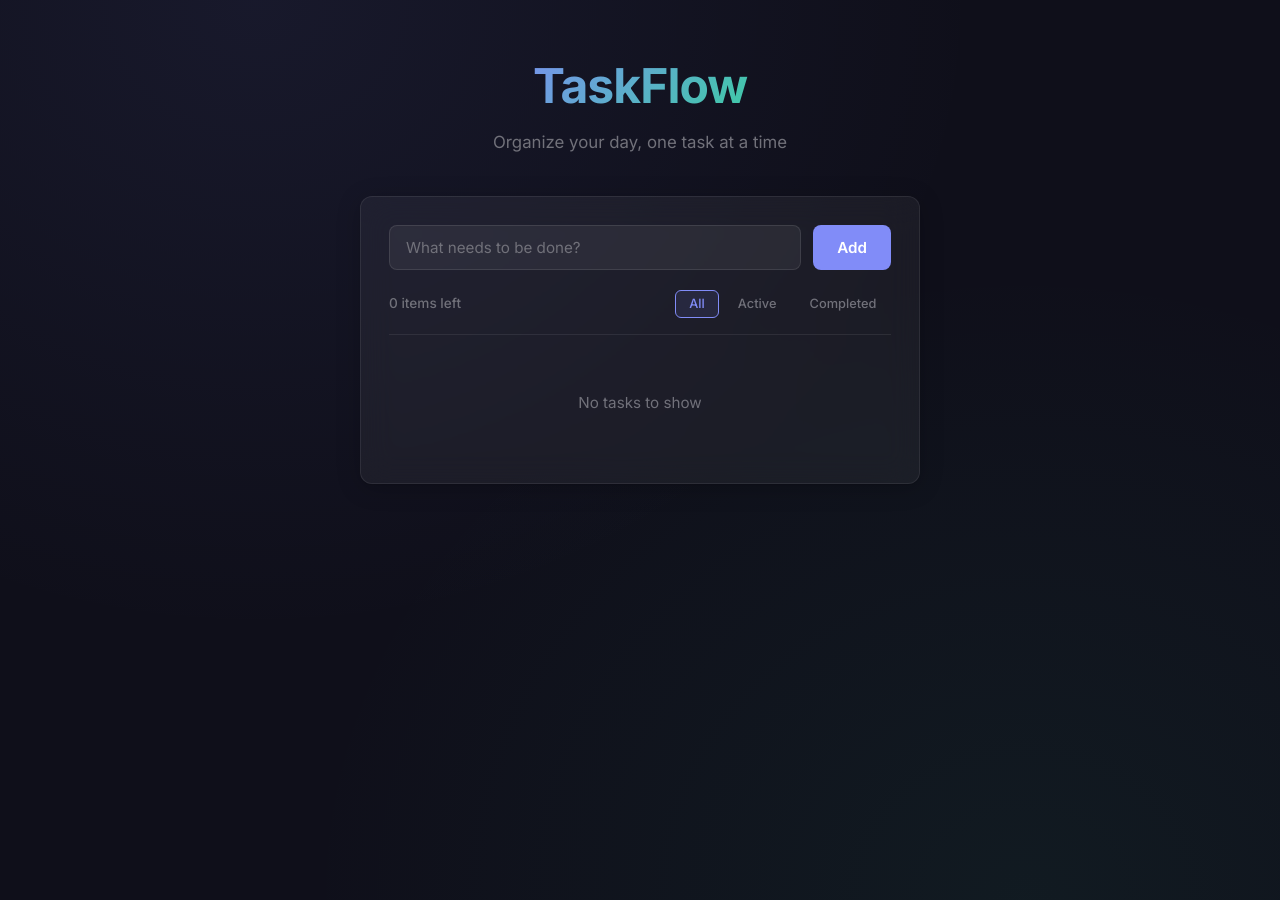
it: App › adds a new task when the form is submitted
The image size is (1280, 900).
In the field named "Task title": [595, 247] box [389, 225, 801, 270], type "New task"
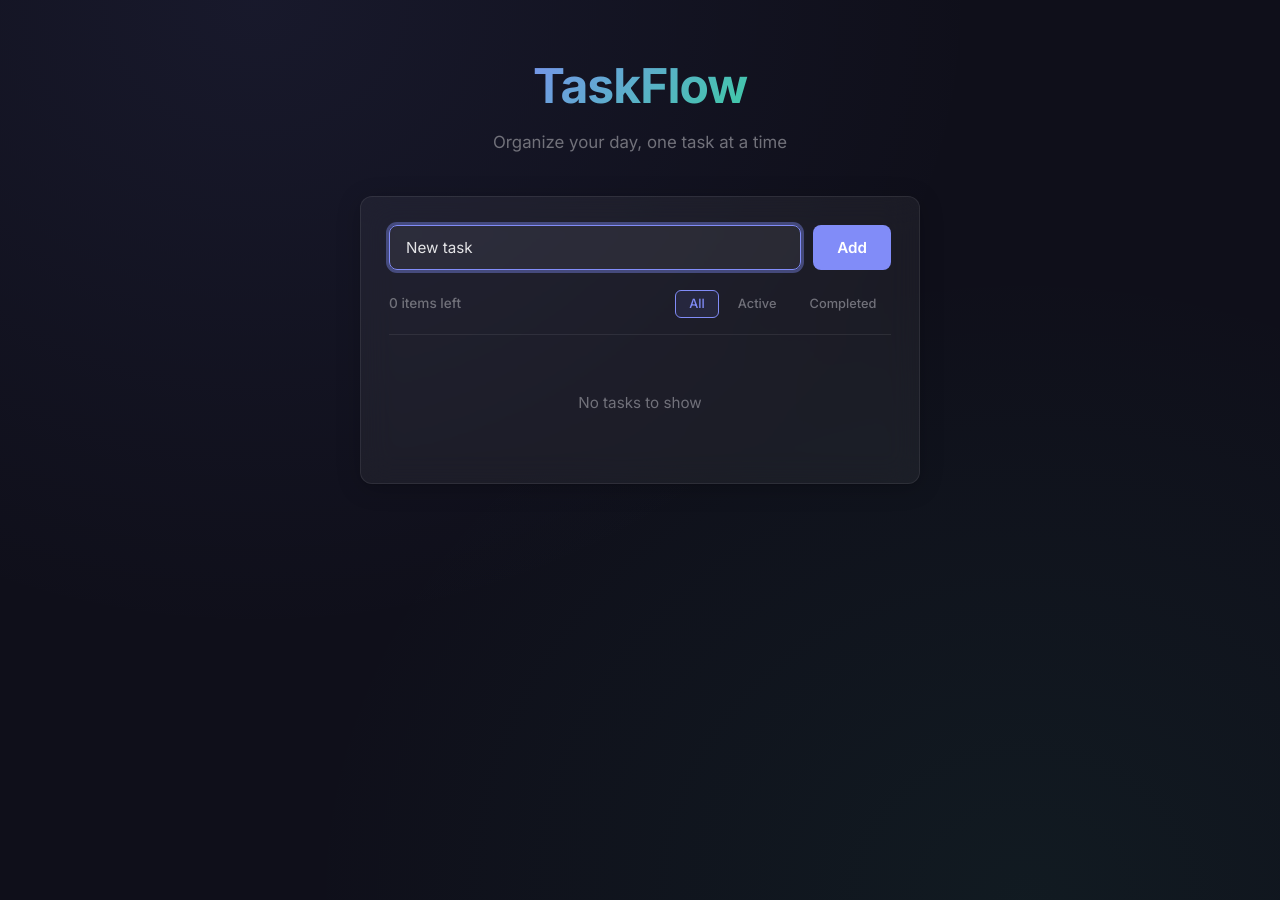
Click the button "Add": [852, 247] box [813, 225, 891, 270]
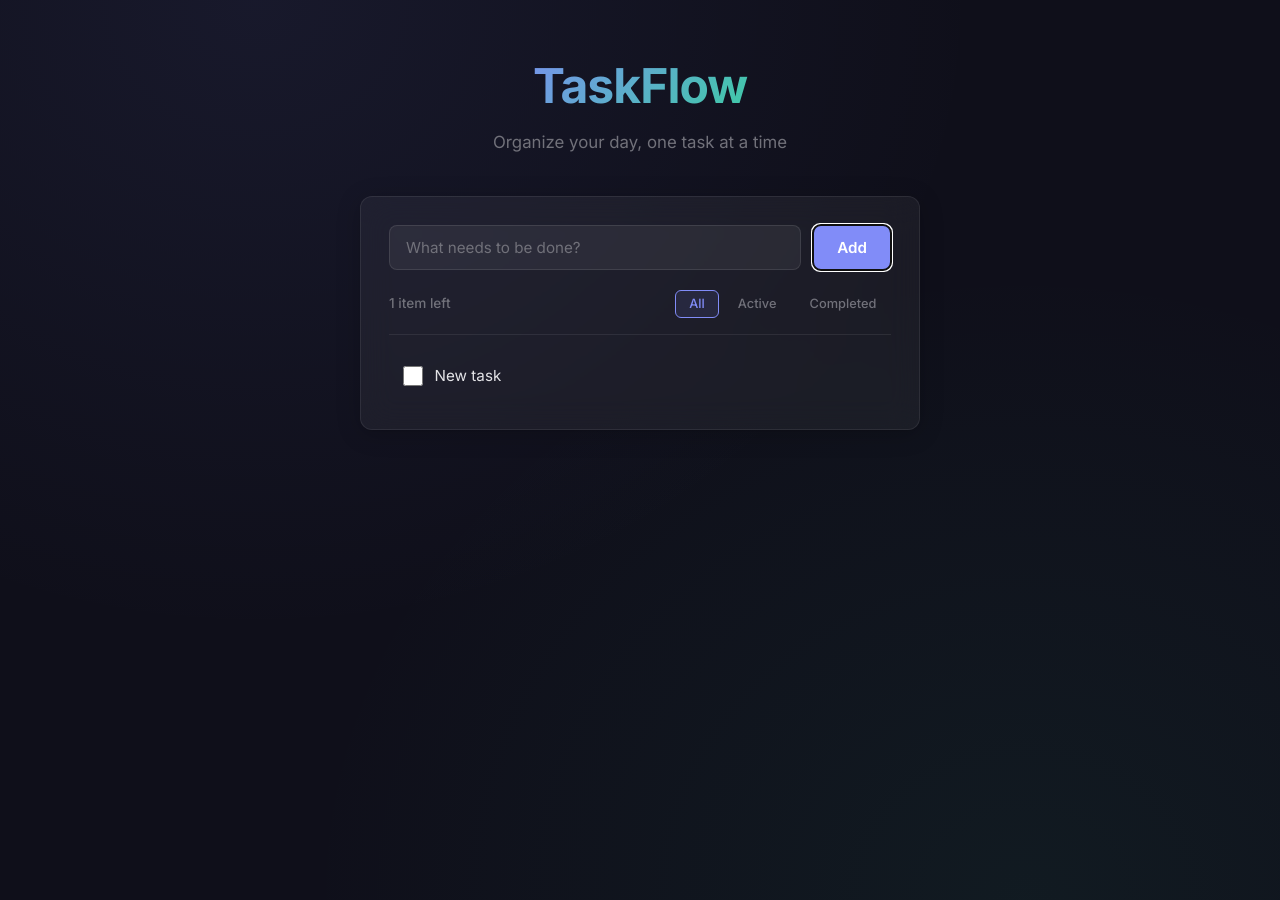
Now the text "New task" is shown, box [435, 364, 501, 388]
Now the text "1 item left" is shown, box [389, 293, 451, 315]
